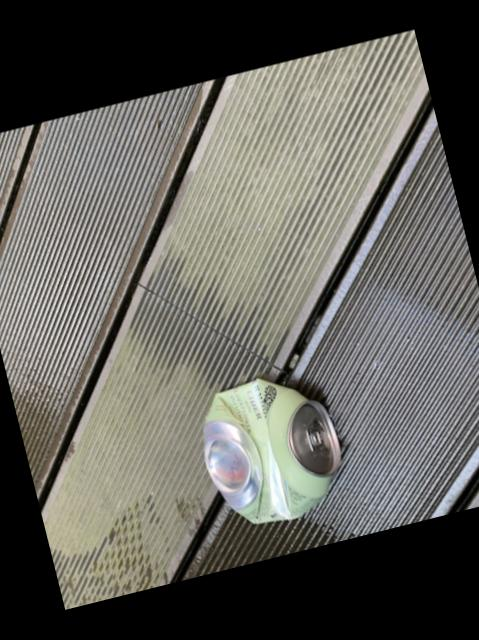metal: (202, 382, 338, 525)
